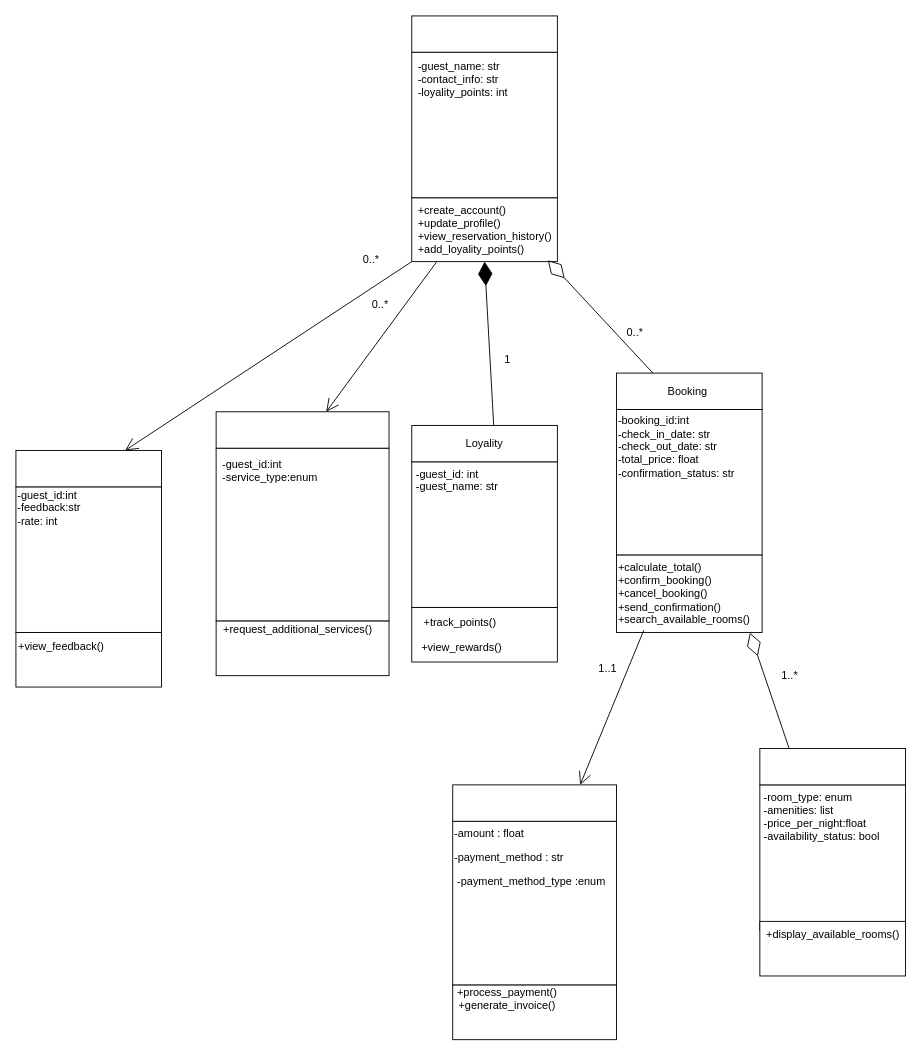
Image size: 922x1056. Some labels were removed from this diagram. Each missing label, with the box of its shape:
Feeedback: (15, 450, 162, 487)
Guest: (411, 15, 557, 52)
GuestServices: (215, 411, 389, 448)
Payment: (452, 784, 617, 821)
Room: (759, 748, 905, 785)
